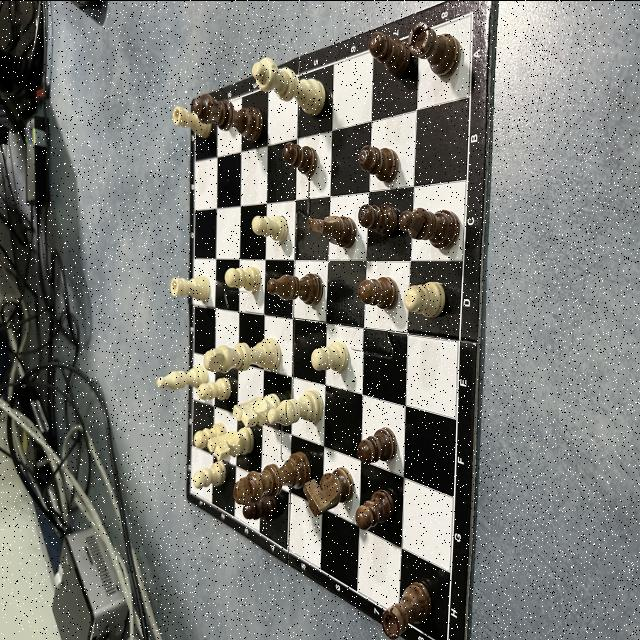Black-Bishop: (267, 272, 323, 304)
Black-King: (233, 450, 311, 504), (192, 92, 264, 140)
Black-Knight: (303, 466, 354, 516), (306, 214, 356, 248)
Black-Pawn: (356, 488, 394, 530), (357, 144, 399, 182), (357, 426, 397, 464), (358, 203, 398, 237), (358, 274, 398, 308), (282, 140, 318, 174), (242, 497, 278, 521)
White-Bishop: (157, 364, 209, 390)
White-King: (204, 336, 282, 372)
White-Knight: (232, 392, 282, 426), (208, 426, 255, 460)
White-Pawn: (311, 339, 349, 371), (224, 264, 260, 292), (252, 214, 288, 242), (193, 460, 227, 488), (194, 421, 227, 448), (198, 376, 232, 400)
White-Queen: (252, 54, 326, 114)
White-Rook: (173, 105, 213, 138), (170, 274, 212, 301)
